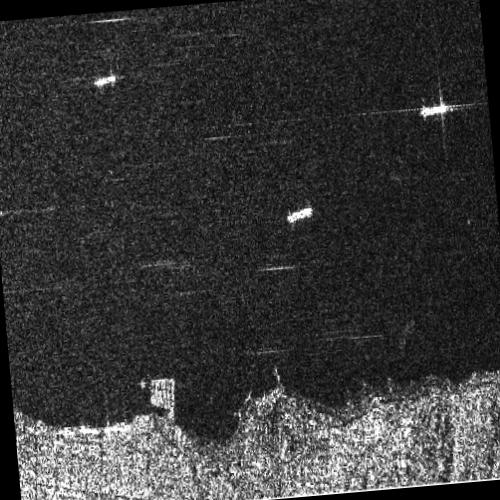ship: (417, 102, 451, 119), (285, 206, 313, 225), (93, 74, 117, 89)
